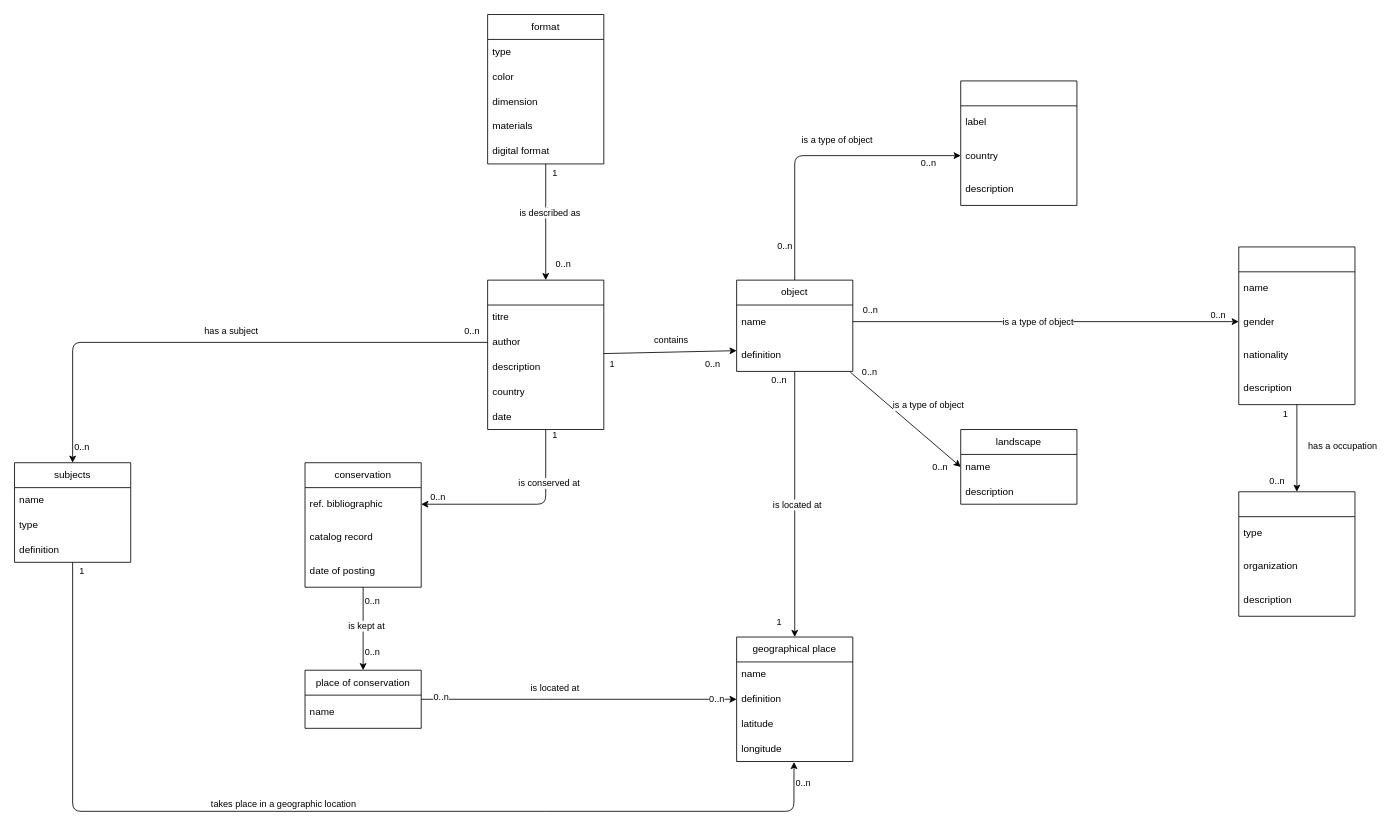
Image size: 1391x832. Some labels were removed from this diagram. Here are the shapes that lost their labels. From the top down, the box of each, then its label:
(960, 80, 1077, 205): vehicle
(1238, 246, 1355, 405): person
(487, 279, 604, 430): photo
(1238, 491, 1355, 616): occupation
